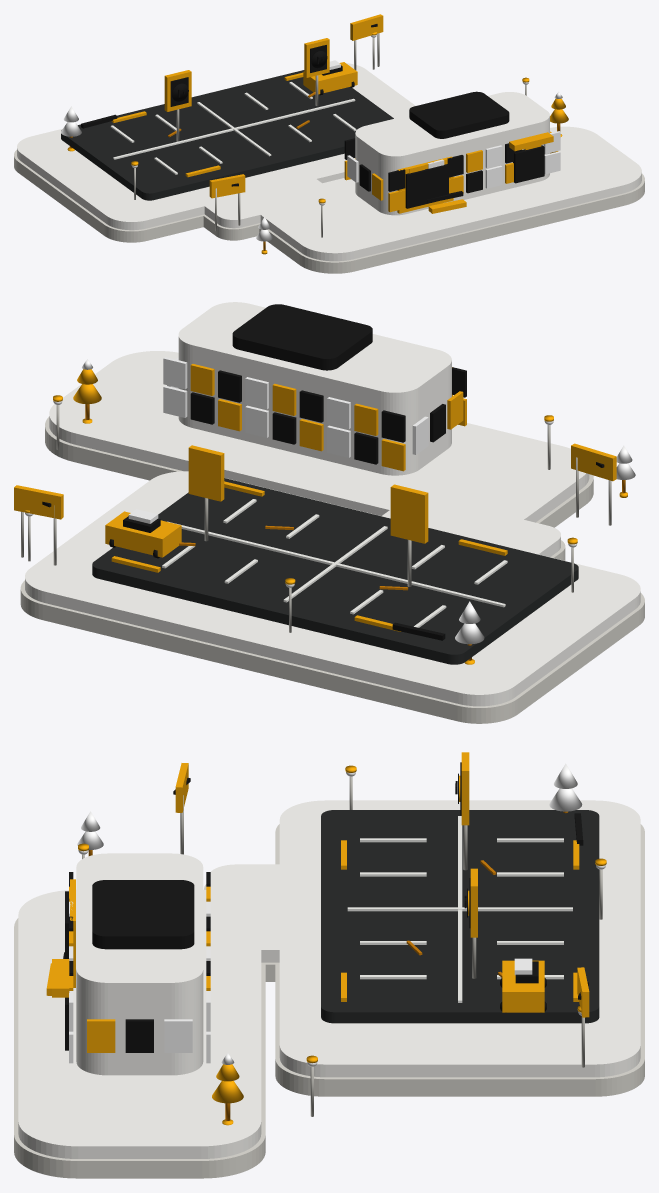
The model's file is zona_estacionamiento.glb.
The picture shows the model from 3 angles, top to bottom: view 1: azimuth 30°, elevation 25°; view 2: azimuth 150°, elevation 25°; view 3: azimuth 270°, elevation 25°; orthographic projection. The views are drawn at different scales.
Visible parts, largest first — view 1: black parking lot slab, lower building pad white top, upper parking pad white top, parking checker building body, lower building pad grey side, J neck connector white top, black offset parking roof, upper parking pad grey side, black front garage, black entry glass, tiny yellow parking car, parking horizontal divider (+7 smaller); view 2: black parking lot slab, upper parking pad white top, lower building pad white top, parking checker building body, upper parking pad grey side, black offset parking roof, J neck connector white top, lower building pad grey side, yellow P sign board, tiny yellow parking car, yellow P sign board.001, parking horizontal divider (+20 smaller); view 3: black parking lot slab, upper parking pad white top, lower building pad white top, parking checker building body, upper parking pad grey side, J neck connector white top, black offset parking roof, lower building pad grey side, tiny yellow parking car, parking vertical divider, side checker tile.003, side checker tile.004 (+4 smaller).
Boxes of the visible parts, bbox=[...] form: black parking lot slab: bbox=[61, 70, 393, 200]; lower building pad white top: bbox=[257, 126, 641, 261]; upper parking pad white top: bbox=[17, 63, 415, 230]; parking checker building body: bbox=[355, 92, 549, 215]; lower building pad grey side: bbox=[258, 173, 644, 273]; J neck connector white top: bbox=[190, 166, 326, 228]; black offset parking roof: bbox=[409, 91, 509, 138]; upper parking pad grey side: bbox=[14, 150, 203, 242]; black front garage: bbox=[405, 164, 448, 208]; black entry glass: bbox=[513, 145, 544, 183]; tiny yellow parking car: bbox=[303, 62, 357, 94]; parking horizontal divider: bbox=[113, 98, 355, 159]; black parking lot slab: bbox=[92, 478, 578, 664]; upper parking pad white top: bbox=[25, 471, 640, 706]; lower building pad white top: bbox=[49, 351, 589, 528]; parking checker building body: bbox=[178, 302, 451, 475]; upper parking pad grey side: bbox=[20, 580, 644, 723]; black offset parking roof: bbox=[232, 304, 372, 370]; J neck connector white top: bbox=[382, 497, 560, 556]; lower building pad grey side: bbox=[45, 416, 593, 527]; yellow P sign board: bbox=[390, 484, 428, 543]; tiny yellow parking car: bbox=[105, 511, 181, 557]; yellow P sign board.001: bbox=[188, 445, 224, 501]; parking horizontal divider: bbox=[167, 521, 505, 607]; black parking lot slab: bbox=[321, 810, 599, 1023]; upper parking pad white top: bbox=[279, 800, 640, 1077]; lower building pad white top: bbox=[18, 889, 261, 1158]; parking checker building body: bbox=[76, 853, 203, 1075]; upper parking pad grey side: bbox=[275, 824, 644, 1096]; J neck connector white top: bbox=[210, 864, 320, 962]; black offset parking roof: bbox=[92, 880, 194, 949]; lower building pad grey side: bbox=[14, 918, 265, 1178]; tiny yellow parking car: bbox=[502, 960, 544, 1012]; parking vertical divider: bbox=[347, 907, 572, 911]; side checker tile.003: bbox=[87, 1019, 115, 1052]; side checker tile.004: bbox=[125, 1019, 153, 1052].
Bounding box in the file's own units: 4.7 × 1.02 × 3.58.
